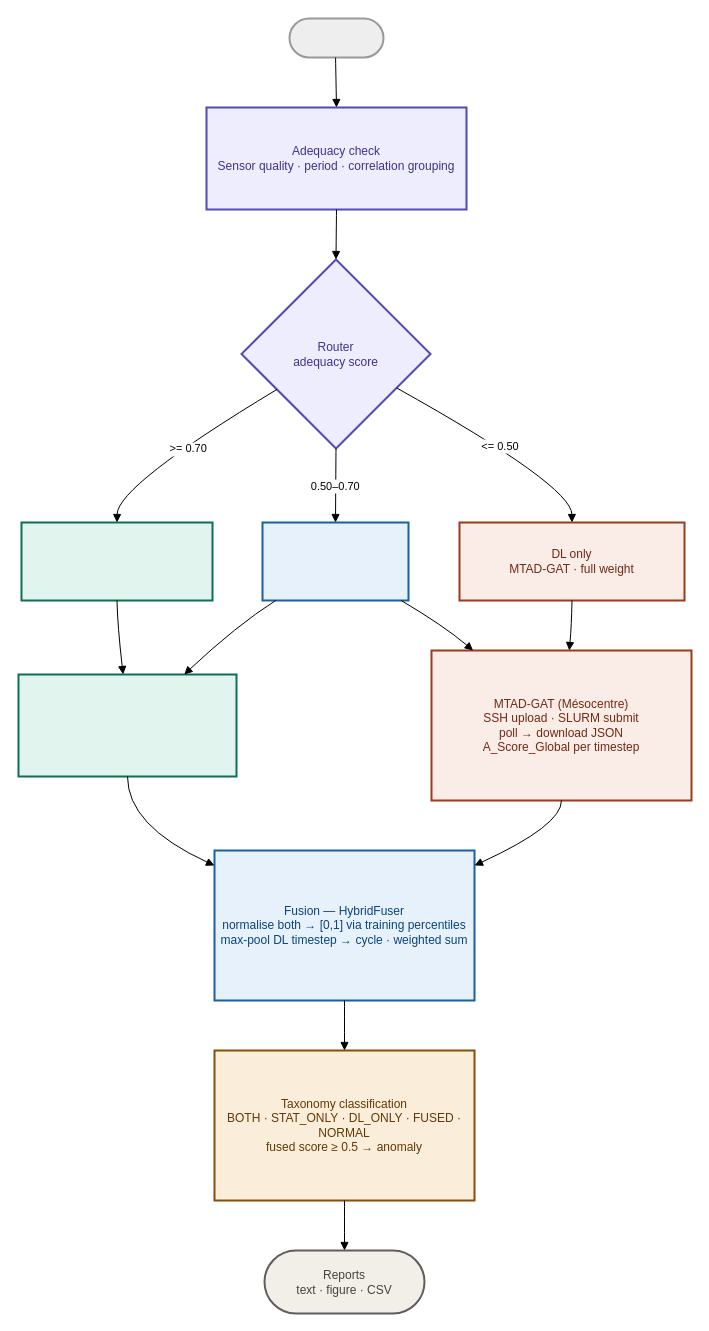
Image size: 709x1331. Some labels were removed from this diagram. The centre of each missing label's shape, as x and y in pixels:
CCAD (local) per-cycle max z-score flagged cycle indices: point 127,725
CSV input: point 336,37
Hybrid linear blend: point 335,561
Statistical only CCAD · full weight: point 116,561
